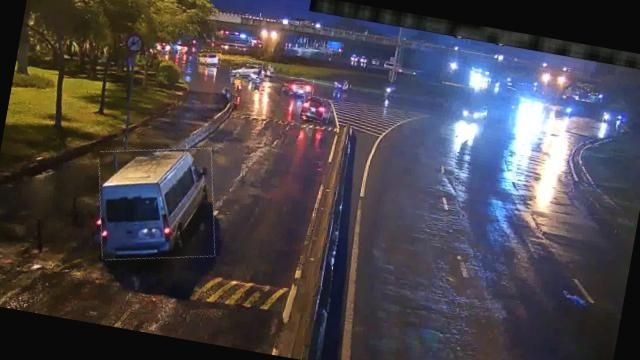Bus: (86, 135, 227, 273)
Car: (300, 94, 333, 123), (228, 58, 264, 79), (284, 76, 314, 98), (196, 48, 223, 68)
